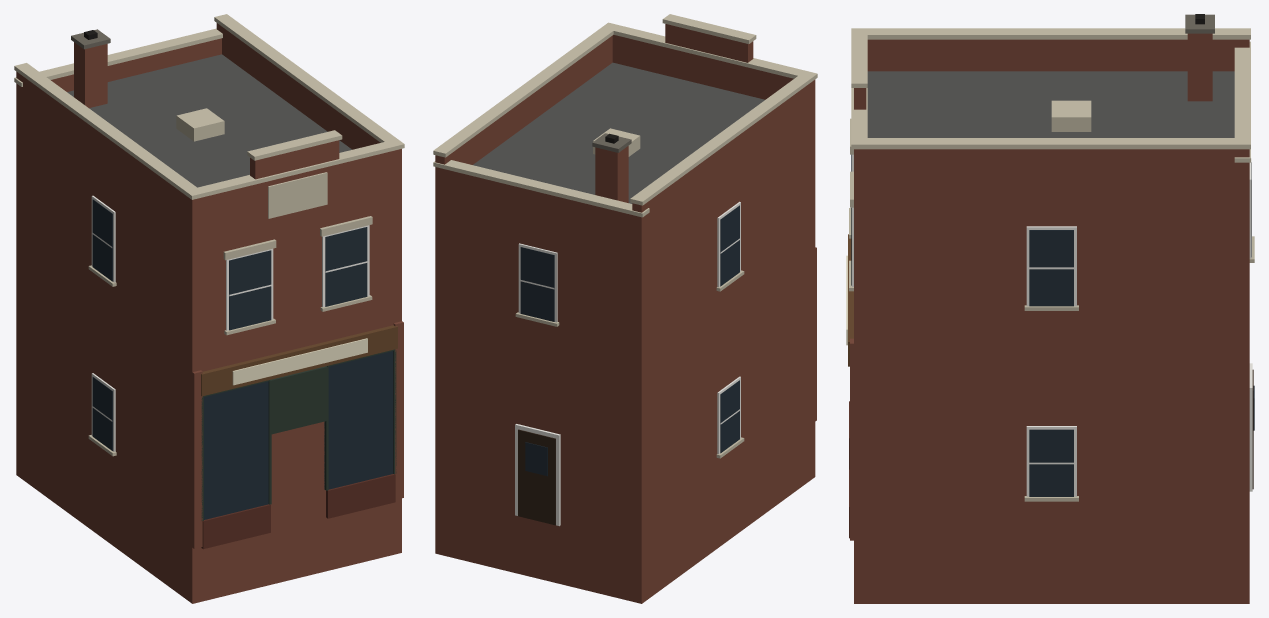
Rendered from one-story-brick-store-0002.glb.
The picture shows the model from 3 angles, left to right: view 1: azimuth 30°, elevation 25°; view 2: azimuth 150°, elevation 25°; view 3: azimuth 270°, elevation 25°; orthographic projection. The views are drawn at different scales.
Visible parts, largest first — view 1: kit-one-story-brick-store-0002; view 2: kit-one-story-brick-store-0002; view 3: kit-one-story-brick-store-0002.
Boxes of the visible parts, x1=… form: kit-one-story-brick-store-0002: x1=14, y1=14, x2=404, y2=603; kit-one-story-brick-store-0002: x1=433, y1=14, x2=817, y2=603; kit-one-story-brick-store-0002: x1=846, y1=14, x2=1254, y2=603.
Bounding box in the file's own units: 5.7 × 11.18 × 8.25.
